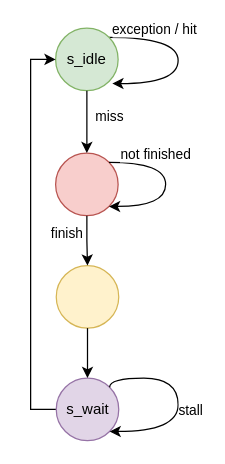
Image size: 225x464. Some labels were removed from this diagram. The centre of each missing label's shape, as x and y in pixels:
s_miss: point (86, 184)
s_refill: point (87, 296)
